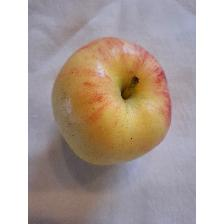Apfel: (50, 32, 174, 168)
